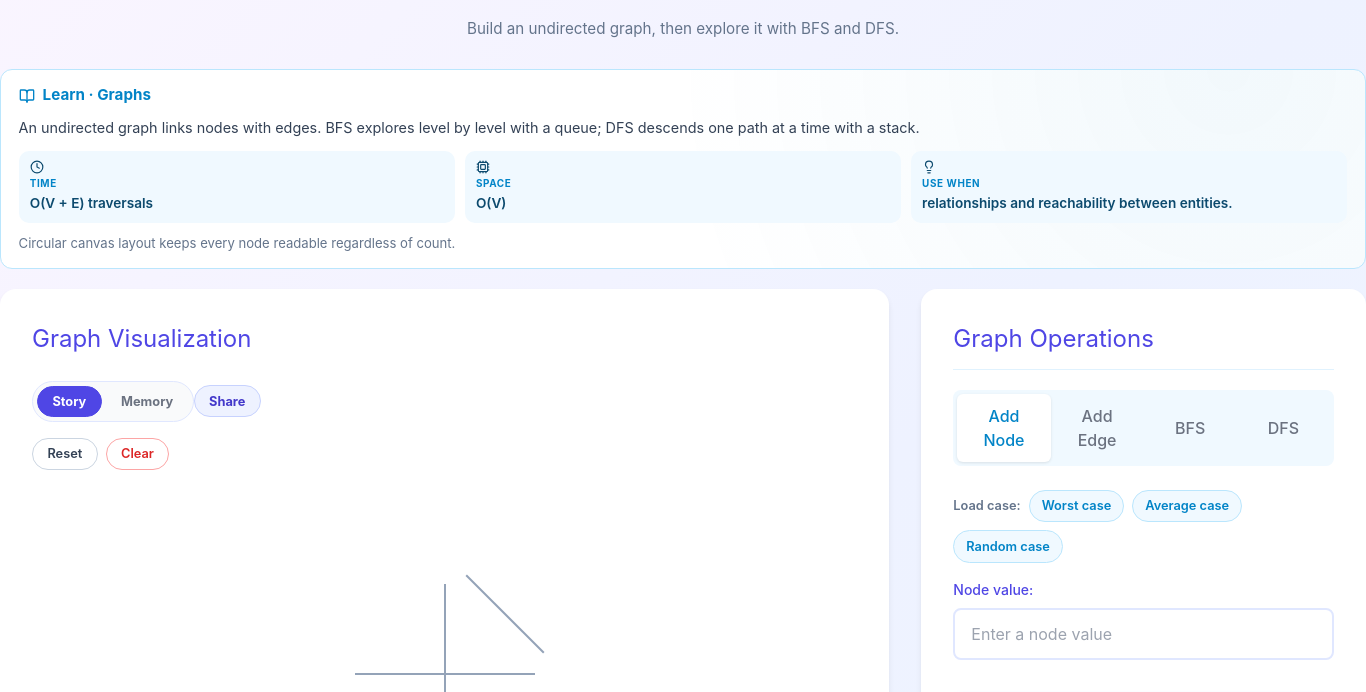
Test case: graph operations › BFS run shows the pseudocode pane and records the traversal
Click the button "BFS" at (1190,428), box left=1144, top=394, right=1237, bottom=462
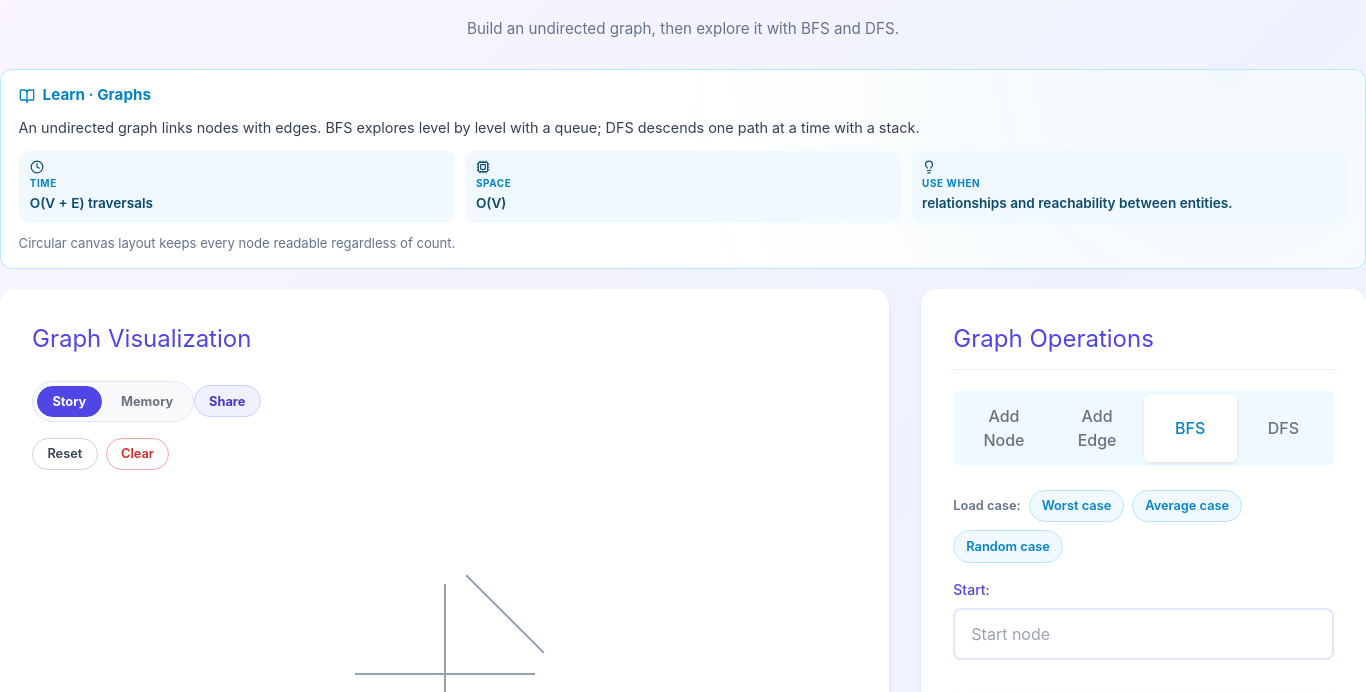
Type "1" into the number field with placeholder "Start node" at (1144,634), box left=953, top=608, right=1334, bottom=660
(page scrolled)
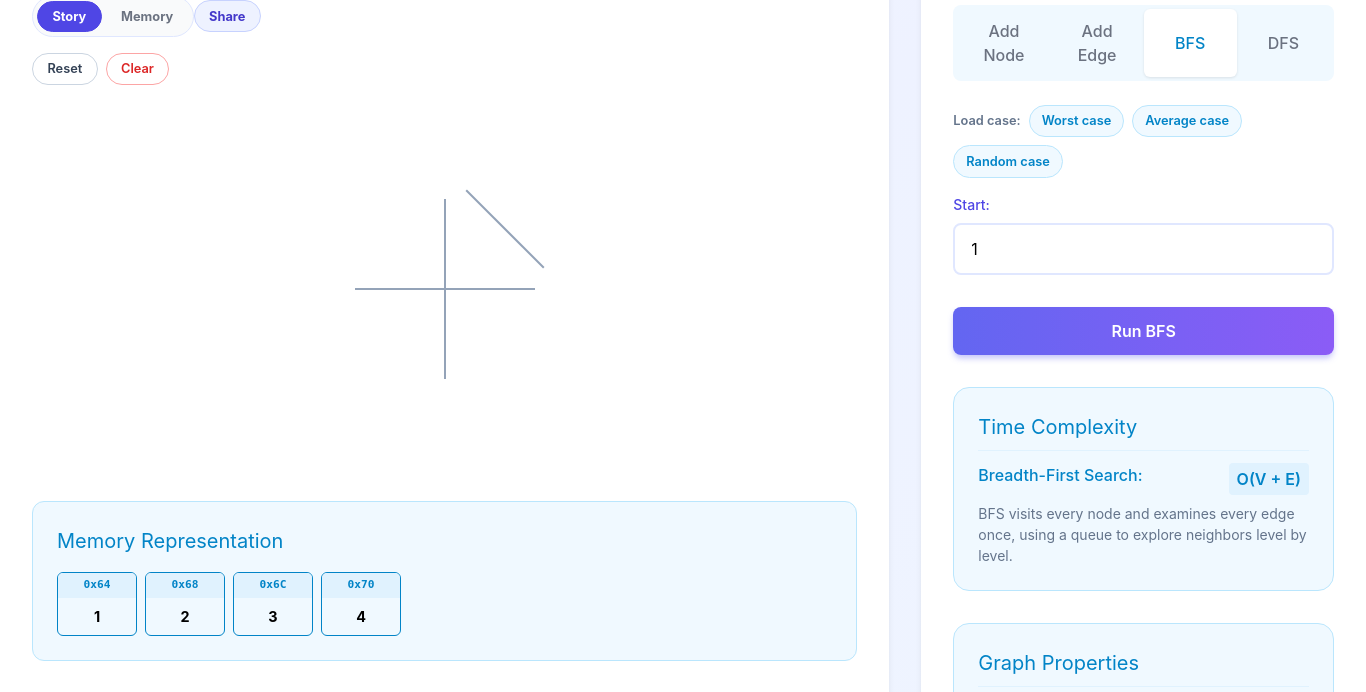
Click the button "Run BFS" at (1144,331), box left=953, top=307, right=1334, bottom=355
Wait 30000 ms
(page scrolled)
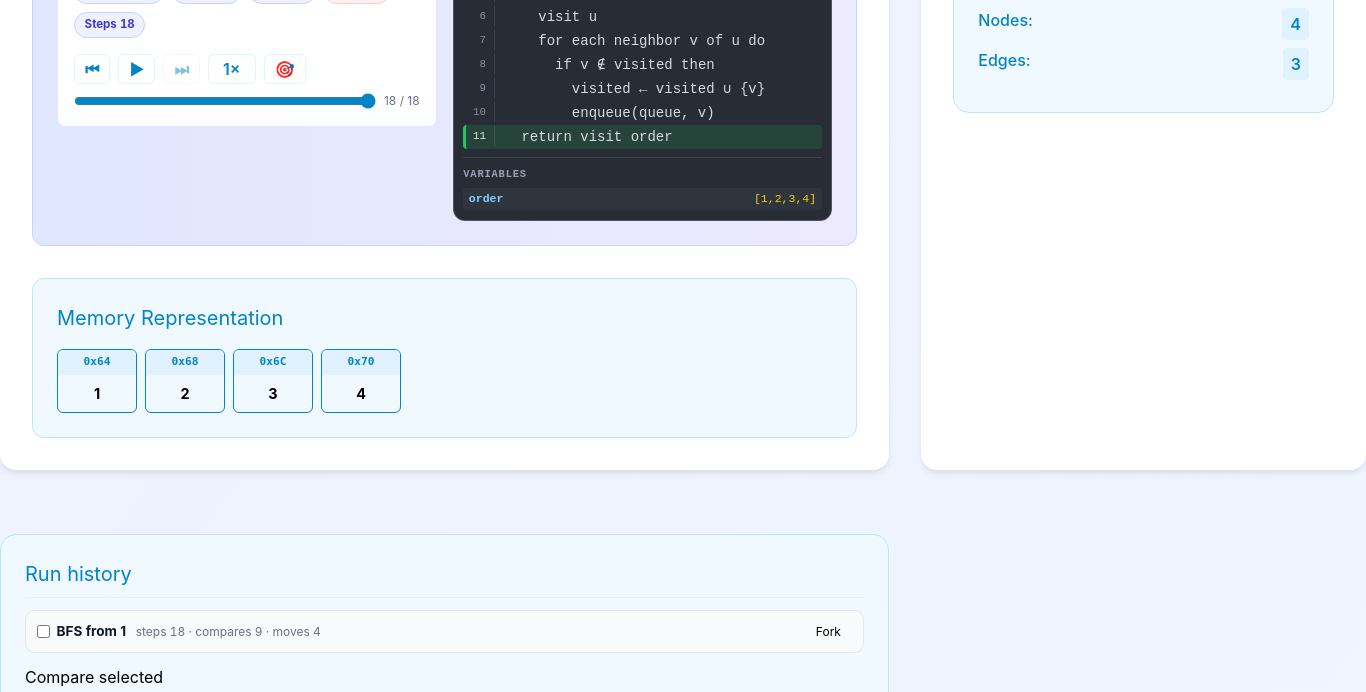
Check: the text "BFS from 1" is shown, box left=57, top=621, right=126, bottom=642
